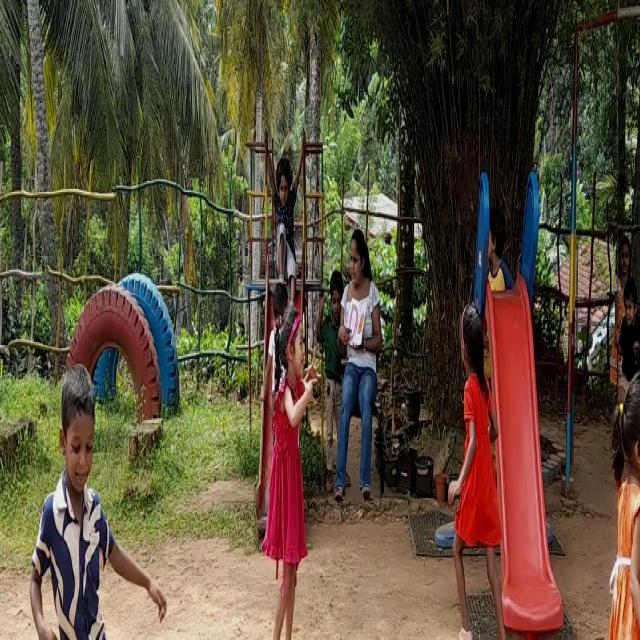adult: (341, 228, 392, 501), (270, 143, 304, 293)
child: (24, 360, 149, 640), (449, 299, 509, 640), (266, 317, 312, 640), (608, 374, 640, 640), (612, 286, 640, 381)
